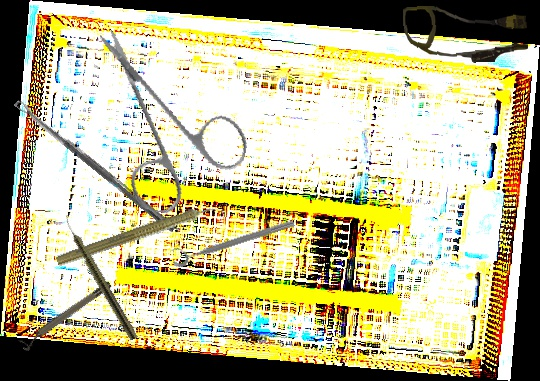Cannula: (402, 0, 529, 67)
Fixation Ring: (168, 209, 297, 270), (17, 279, 116, 353)
Handpiece: (54, 195, 229, 274), (59, 213, 140, 342)
Iris Scissors: (64, 28, 266, 228)
Surgical Spoon: (13, 98, 178, 233)
